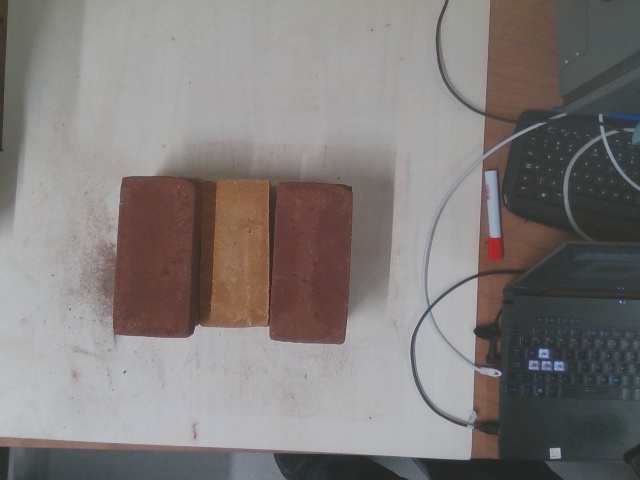brick: (112, 177, 191, 337), (272, 182, 351, 342), (198, 182, 269, 324)
